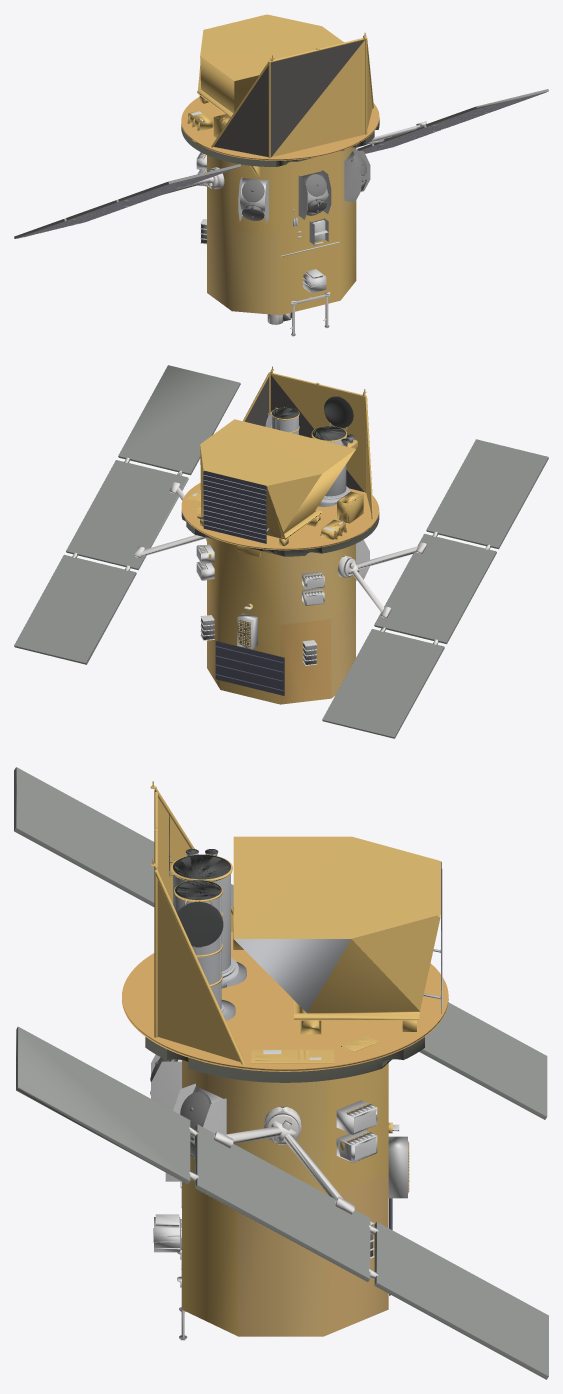
The model's file is swift.glb.
The picture shows the model from 3 angles, top to bottom: view 1: azimuth 30°, elevation 25°; view 2: azimuth 150°, elevation 25°; view 3: azimuth 270°, elevation 25°; orthographic projection. The views are drawn at different scales.
Visible parts, largest first — view 1: Fake; view 2: Fake; view 3: Fake.
Boxes of the visible parts, x1,y1,x2,y2 form: Fake: (14, 14, 548, 336); Fake: (14, 365, 548, 738); Fake: (14, 767, 548, 1379).
Bounding box in the file's own units: 39.92 × 29.44 × 28.26.
1 material, 1 textured.
